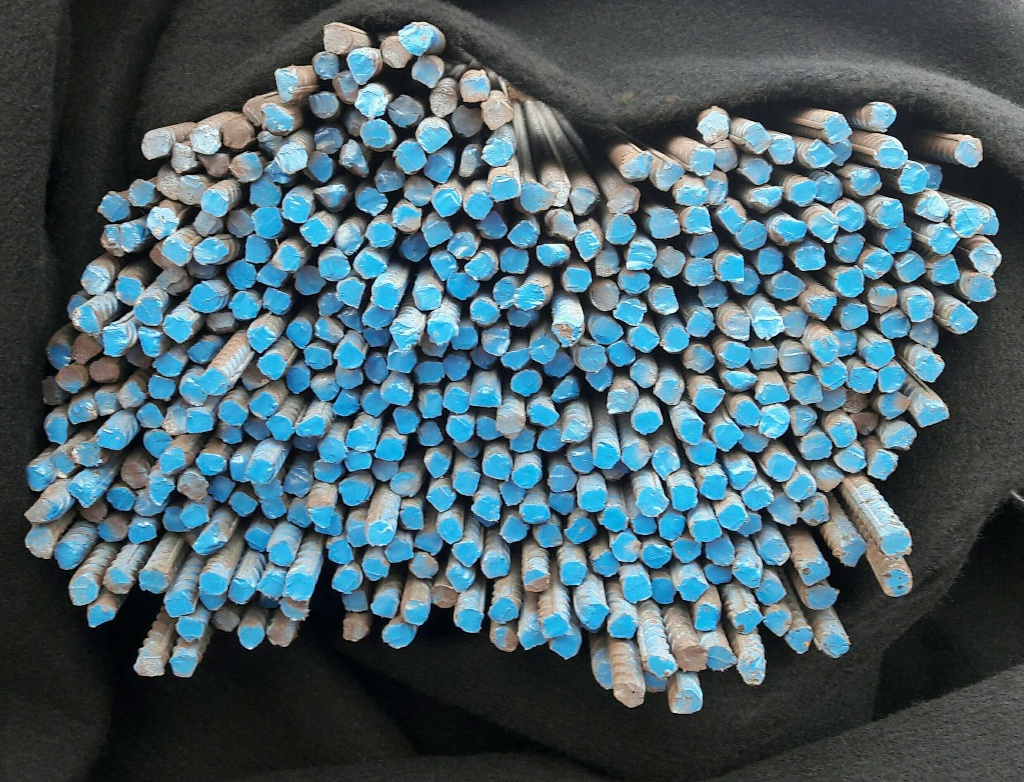dipstick: (188, 524, 225, 556), (100, 225, 138, 256), (389, 95, 421, 128), (401, 23, 434, 55), (356, 85, 387, 119), (452, 105, 484, 137), (259, 104, 293, 134), (190, 124, 221, 155), (148, 208, 179, 239), (252, 207, 283, 238), (249, 178, 280, 209), (413, 57, 444, 88), (521, 181, 555, 209), (25, 497, 61, 523), (81, 264, 111, 295), (396, 141, 426, 172), (648, 209, 679, 239), (246, 235, 278, 264), (276, 144, 308, 173), (419, 124, 451, 153), (382, 36, 411, 68), (360, 120, 393, 148), (193, 238, 228, 264), (484, 99, 514, 129), (794, 240, 824, 270), (294, 265, 325, 294), (232, 152, 261, 183), (898, 162, 927, 193), (971, 245, 1002, 274), (482, 139, 514, 167), (590, 279, 618, 311), (875, 140, 907, 168), (381, 623, 416, 648), (190, 283, 219, 313), (25, 529, 54, 559), (227, 260, 256, 290), (518, 620, 548, 649), (610, 533, 640, 562), (833, 233, 863, 262), (348, 53, 376, 84), (552, 319, 584, 346), (273, 68, 299, 101), (177, 175, 206, 204), (432, 188, 461, 217), (737, 220, 766, 249), (950, 208, 979, 237), (163, 315, 193, 343), (69, 577, 99, 605), (178, 473, 208, 501), (180, 375, 208, 405), (713, 423, 743, 451), (789, 405, 817, 435), (700, 112, 728, 142), (863, 250, 893, 278), (98, 193, 129, 220), (448, 272, 479, 299), (476, 212, 507, 239), (425, 151, 452, 182), (669, 687, 701, 713), (101, 327, 129, 356), (144, 430, 173, 458), (285, 573, 314, 601), (392, 203, 421, 231), (509, 219, 538, 247), (571, 188, 600, 216), (607, 214, 635, 243), (627, 241, 656, 269), (621, 443, 650, 471), (622, 575, 651, 603), (759, 408, 787, 437), (651, 284, 679, 313), (910, 319, 938, 348), (930, 227, 959, 255), (620, 267, 650, 294), (740, 426, 770, 453), (917, 195, 947, 222), (537, 240, 568, 266), (759, 539, 790, 565), (115, 277, 143, 305), (134, 297, 162, 325), (223, 120, 251, 148), (466, 192, 494, 220), (770, 496, 798, 524), (793, 375, 821, 403), (782, 343, 810, 371), (806, 140, 834, 168), (836, 269, 864, 297), (949, 305, 977, 333), (282, 196, 311, 223), (447, 414, 474, 443), (423, 220, 452, 247), (430, 87, 457, 116), (836, 445, 865, 472), (809, 335, 838, 362), (656, 161, 683, 190), (56, 367, 86, 393), (340, 478, 370, 504), (465, 253, 495, 279), (324, 24, 350, 54), (609, 186, 639, 212), (637, 489, 667, 515), (694, 386, 724, 412), (744, 124, 770, 154), (773, 273, 803, 299), (676, 646, 707, 671), (719, 342, 750, 367), (683, 261, 714, 286), (687, 231, 718, 256), (591, 318, 623, 342), (363, 305, 396, 328), (69, 480, 97, 507), (227, 210, 254, 238), (310, 92, 338, 119), (335, 225, 362, 253), (472, 497, 499, 525), (448, 232, 476, 259), (405, 178, 433, 205), (459, 75, 487, 102), (595, 247, 622, 275), (630, 324, 658, 351), (656, 249, 684, 276), (755, 311, 783, 338), (809, 212, 837, 239), (883, 569, 910, 597), (897, 254, 925, 281), (307, 153, 333, 182), (494, 279, 520, 308), (516, 284, 545, 310), (544, 351, 573, 377), (622, 153, 651, 179), (716, 505, 745, 531), (684, 346, 713, 372), (781, 309, 807, 338), (75, 306, 100, 336), (347, 426, 377, 451), (287, 318, 312, 348), (491, 175, 521, 200), (575, 232, 600, 262), (864, 342, 894, 367), (869, 450, 894, 480), (279, 596, 310, 620), (335, 72, 359, 103), (565, 518, 596, 542), (884, 424, 915, 448), (644, 655, 676, 678), (142, 131, 169, 158), (301, 218, 328, 245), (501, 247, 528, 274), (684, 207, 711, 234), (916, 354, 943, 381), (884, 226, 911, 253), (267, 621, 295, 647), (231, 292, 259, 318), (248, 327, 276, 353), (338, 279, 364, 307), (579, 604, 607, 630), (431, 252, 457, 280), (358, 189, 386, 215), (766, 454, 794, 480), (836, 205, 864, 231), (881, 312, 909, 338), (868, 286, 896, 312), (967, 275, 995, 301), (171, 143, 196, 172), (311, 375, 340, 400), (315, 318, 344, 343), (356, 253, 385, 278), (382, 382, 411, 407), (490, 599, 519, 624), (654, 380, 683, 405), (817, 364, 846, 389), (698, 281, 727, 306), (511, 371, 541, 395), (128, 179, 154, 206), (56, 542, 82, 569), (121, 462, 148, 488), (163, 506, 190, 532), (246, 524, 272, 551), (264, 288, 291, 314), (448, 566, 474, 593), (549, 465, 576, 491), (443, 354, 470, 380), (482, 329, 509, 355), (593, 443, 620, 469), (719, 204, 745, 231), (824, 115, 850, 142), (825, 139, 852, 165), (955, 141, 982, 167), (163, 240, 191, 265), (551, 633, 579, 658), (496, 413, 524, 438), (471, 300, 499, 325), (376, 166, 404, 191), (652, 449, 680, 474), (742, 159, 770, 184), (851, 169, 879, 194), (103, 569, 132, 593), (511, 464, 540, 488), (803, 435, 832, 459), (881, 531, 910, 555), (319, 256, 349, 279), (426, 319, 456, 342), (372, 284, 398, 310), (501, 516, 527, 542), (393, 324, 419, 350), (578, 345, 604, 371), (552, 375, 578, 401), (839, 541, 865, 567), (816, 176, 842, 202), (148, 374, 175, 399), (259, 354, 286, 379), (284, 471, 311, 496), (250, 393, 277, 418), (336, 343, 363, 368), (559, 561, 586, 586), (413, 284, 440, 309), (402, 234, 427, 261), (530, 337, 557, 362), (631, 361, 656, 388), (816, 465, 843, 490), (719, 255, 744, 282), (878, 201, 903, 228), (851, 410, 878, 435), (907, 295, 932, 322), (164, 593, 192, 617), (219, 402, 247, 426), (265, 417, 293, 441), (454, 609, 482, 633), (367, 223, 395, 247), (707, 646, 735, 670), (735, 610, 763, 634), (821, 633, 849, 657), (802, 562, 830, 586), (802, 500, 830, 524), (878, 392, 906, 416), (68, 401, 97, 424), (137, 492, 166, 515), (385, 539, 414, 562), (365, 354, 388, 383), (541, 614, 570, 637), (96, 429, 126, 451), (918, 405, 948, 427), (775, 219, 806, 240), (49, 450, 74, 476), (239, 623, 264, 649), (210, 476, 235, 502), (363, 391, 389, 416), (202, 190, 228, 215), (453, 542, 479, 567), (444, 387, 469, 413), (570, 447, 595, 473), (764, 610, 789, 636), (660, 514, 685, 540), (674, 537, 700, 562), (829, 421, 855, 446), (871, 102, 896, 128), (841, 303, 867, 328), (177, 617, 204, 641), (99, 518, 126, 542), (200, 572, 227, 596), (212, 608, 239, 632), (319, 439, 346, 463), (189, 337, 213, 364), (491, 626, 515, 653), (419, 391, 443, 418), (563, 418, 590, 442), (652, 577, 676, 604), (750, 345, 777, 369), (808, 294, 835, 318), (849, 368, 876, 392), (91, 360, 119, 383), (304, 346, 332, 369), (483, 456, 511, 479), (587, 368, 615, 391), (678, 578, 706, 601), (643, 545, 671, 568), (693, 519, 721, 542), (605, 389, 633, 412), (690, 147, 713, 175), (181, 505, 210, 527), (196, 453, 225, 475), (375, 438, 404, 460), (521, 503, 550, 525), (137, 403, 162, 428), (108, 486, 133, 511), (268, 542, 293, 567), (314, 53, 339, 78), (393, 409, 418, 434), (429, 487, 454, 512), (551, 214, 576, 239), (602, 507, 627, 532), (787, 475, 812, 500), (735, 401, 760, 426), (758, 248, 783, 273), (879, 366, 904, 391), (27, 465, 51, 491), (140, 569, 166, 593), (203, 369, 227, 395), (367, 521, 393, 545), (411, 554, 437, 578), (549, 491, 575, 515), (416, 360, 442, 384), (565, 268, 591, 292), (592, 553, 618, 577), (694, 606, 720, 630), (671, 486, 697, 510), (735, 268, 759, 294), (933, 258, 959, 282), (186, 410, 213, 433), (327, 540, 354, 563), (333, 570, 360, 593), (372, 595, 399, 618), (260, 263, 287, 286), (579, 489, 606, 512), (451, 327, 478, 350), (699, 476, 726, 499), (686, 312, 713, 335), (771, 137, 794, 164), (726, 313, 749, 340), (675, 184, 706, 204), (364, 326, 392, 348), (390, 474, 418, 496), (732, 565, 760, 587), (808, 586, 837, 607), (756, 385, 788, 404), (120, 383, 144, 408), (259, 574, 284, 598), (499, 481, 524, 505), (454, 471, 479, 495), (424, 453, 449, 477), (679, 419, 703, 444), (662, 326, 687, 350), (230, 492, 256, 515), (308, 505, 334, 528), (439, 517, 462, 543), (537, 428, 563, 451), (610, 614, 636, 637), (757, 580, 783, 603), (155, 353, 182, 375), (286, 367, 308, 394), (336, 366, 363, 388), (530, 404, 557, 426), (706, 562, 733, 584), (744, 487, 771, 509), (842, 390, 869, 412), (470, 387, 501, 406), (314, 460, 342, 481), (400, 506, 424, 530), (405, 601, 429, 625), (419, 421, 443, 445), (788, 628, 812, 652), (343, 617, 368, 640), (537, 524, 562, 547), (477, 416, 502, 439), (740, 662, 765, 685), (791, 181, 816, 204), (247, 460, 273, 482), (342, 590, 368, 612), (346, 521, 368, 547), (431, 586, 457, 608), (609, 342, 635, 364), (724, 371, 754, 390), (87, 605, 114, 626), (170, 656, 197, 677), (371, 459, 398, 480), (523, 570, 550, 591), (689, 443, 716, 464), (502, 349, 530, 369), (817, 389, 845, 409), (230, 580, 253, 604), (484, 554, 507, 578), (510, 429, 534, 452), (832, 331, 856, 354), (48, 345, 70, 370), (363, 558, 388, 580), (334, 393, 359, 415), (129, 523, 156, 543), (978, 208, 998, 235), (161, 451, 184, 474), (318, 293, 342, 315), (48, 419, 68, 445), (260, 497, 286, 517), (79, 502, 106, 521), (134, 659, 164, 676), (288, 503, 310, 526), (739, 512, 761, 535), (296, 417, 324, 435), (634, 412, 658, 433), (633, 514, 657, 534), (345, 451, 371, 469), (924, 164, 942, 190), (754, 188, 781, 205), (730, 470, 755, 488)
